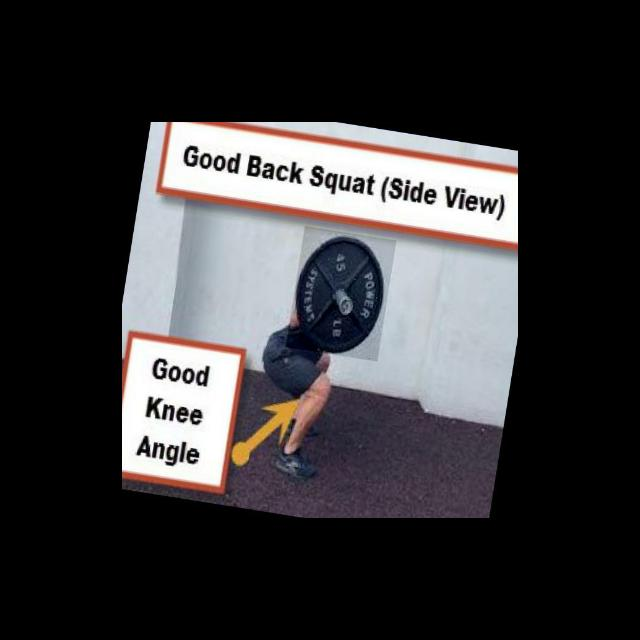barbell: (286, 227, 397, 362)
